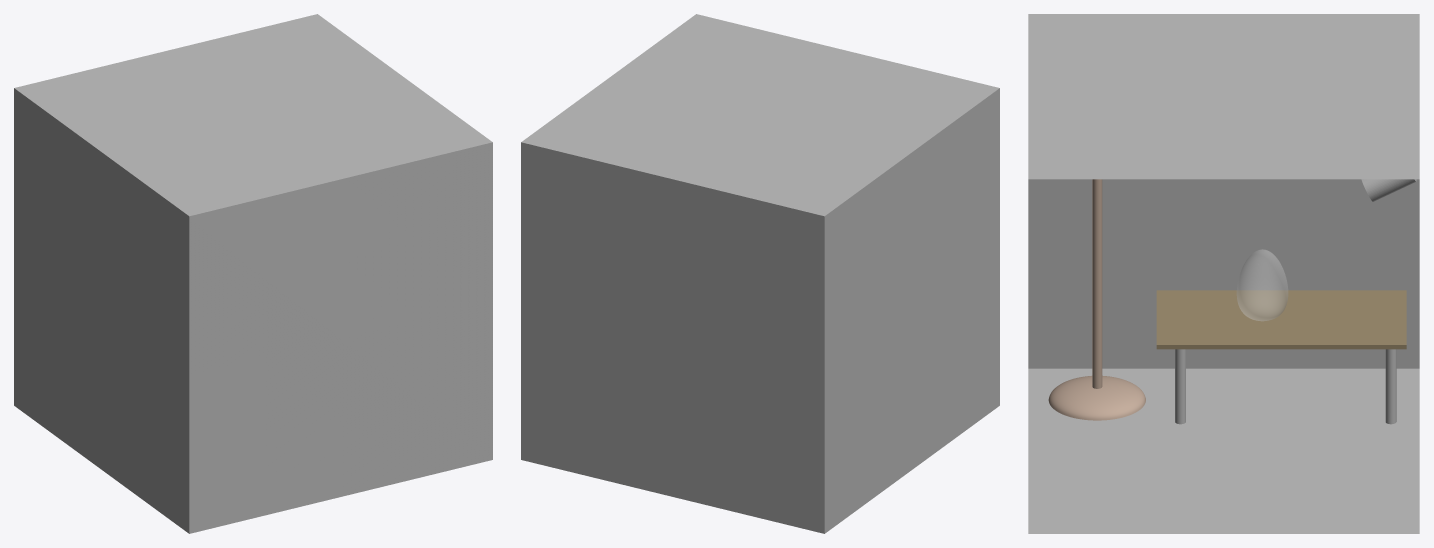
File: veach_bidir_extended.glb
The picture shows the model from 3 angles, left to right: view 1: azimuth 30°, elevation 25°; view 2: azimuth 150°, elevation 25°; view 3: azimuth 270°, elevation 25°; orthographic projection. The views are drawn at different scales.
Parts seen in each view (by area): view 1: 13_Diffuse; view 2: 13_Diffuse; view 3: 13_Diffuse, 12_Wood, 05_Lamp, 07_Glass, 04_Lamp, 08_Diffuse, 11_Diffuse, 06_Diffuse.
Boxes of the visible parts, x1=… form: 13_Diffuse: x1=14, y1=14, x2=492, y2=533; 13_Diffuse: x1=521, y1=14, x2=999, y2=533; 13_Diffuse: x1=1028, y1=14, x2=1419, y2=533; 12_Wood: x1=1156, y1=290, x2=1406, y2=349; 05_Lamp: x1=1048, y1=375, x2=1145, y2=420; 07_Glass: x1=1237, y1=249, x2=1287, y2=320; 04_Lamp: x1=1092, y1=179, x2=1102, y2=388; 08_Diffuse: x1=1385, y1=349, x2=1396, y2=424; 11_Diffuse: x1=1175, y1=349, x2=1185, y2=424; 06_Diffuse: x1=1361, y1=179, x2=1415, y2=201.
Size of the model in its own units: 8 by 8.1 by 8.
